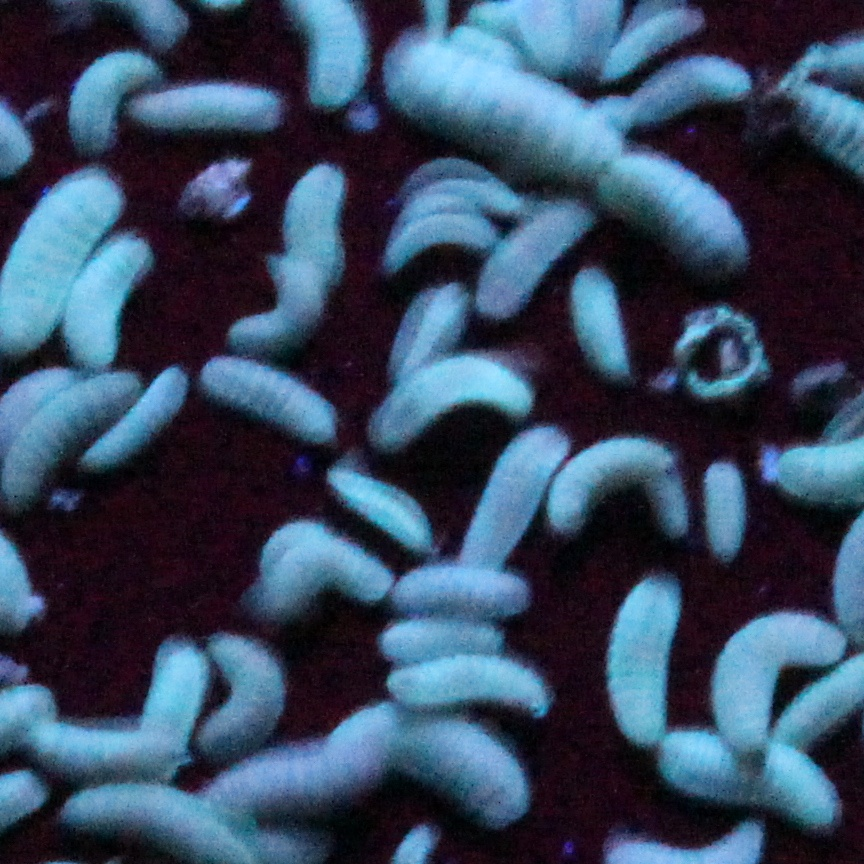larve: (393, 44, 608, 182), (362, 716, 520, 831), (612, 150, 747, 275), (236, 716, 400, 815), (718, 603, 824, 744), (459, 428, 566, 565), (371, 360, 535, 443), (487, 193, 592, 322), (608, 567, 676, 746), (207, 353, 332, 447), (79, 369, 193, 470), (551, 435, 676, 527), (19, 383, 124, 485), (204, 630, 290, 749), (268, 530, 393, 610), (332, 466, 440, 555), (76, 236, 149, 361), (273, 166, 353, 275), (565, 265, 635, 384), (128, 83, 280, 136), (237, 258, 327, 344), (30, 717, 159, 776), (74, 46, 149, 141), (389, 671, 554, 714), (137, 639, 205, 740), (394, 566, 531, 615), (376, 614, 513, 656), (618, 66, 749, 108), (389, 169, 513, 208), (670, 740, 759, 790), (397, 212, 487, 260), (708, 456, 742, 558)
